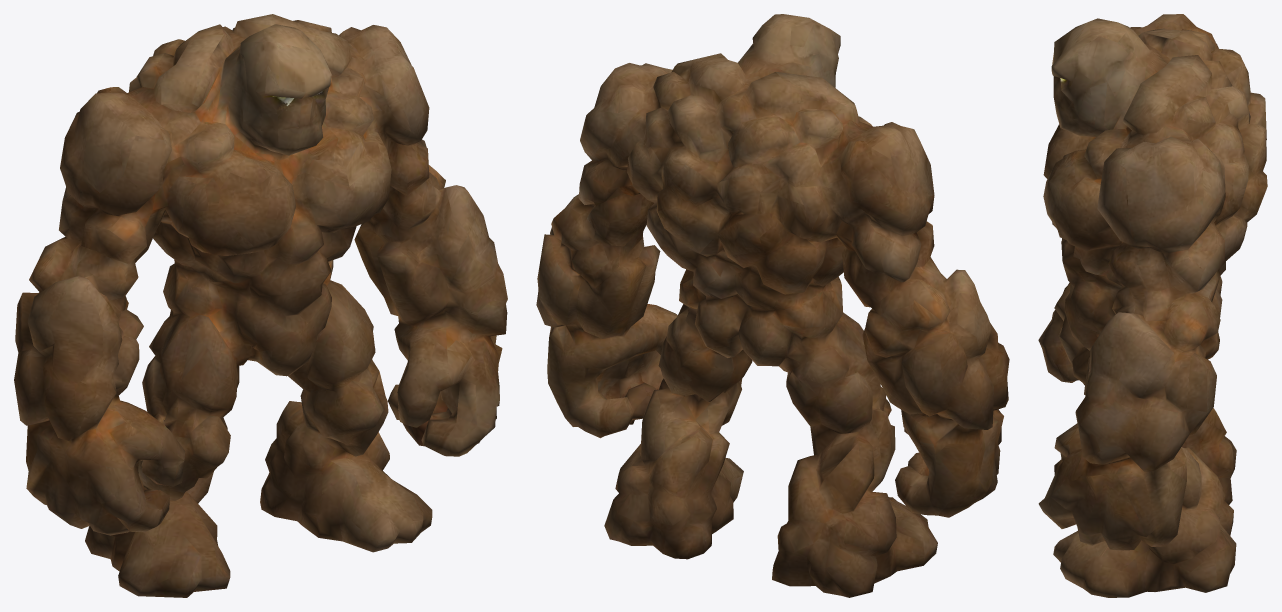
File: elemental.glb
3 views of the same model, side by side, from view 1: azimuth 30°, elevation 25°; view 2: azimuth 150°, elevation 25°; view 3: azimuth 270°, elevation 25° (orthographic). The views are drawn at different scales.
Visible parts, largest first — view 1: elemental; view 2: elemental; view 3: elemental.
Part boxes in pixels (left/top/right/bottom): elemental: left=14, top=14, right=507, bottom=597; elemental: left=536, top=14, right=1009, bottom=597; elemental: left=1038, top=14, right=1267, bottom=597.
Bounding box in the file's own units: 0.9211 × 1 × 0.4112.
Materials: 1 (1 with a texture image).
